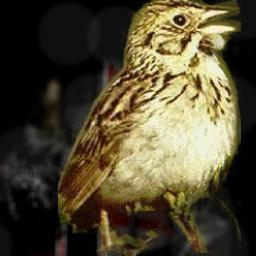Sparrow: (58, 0, 241, 256)
